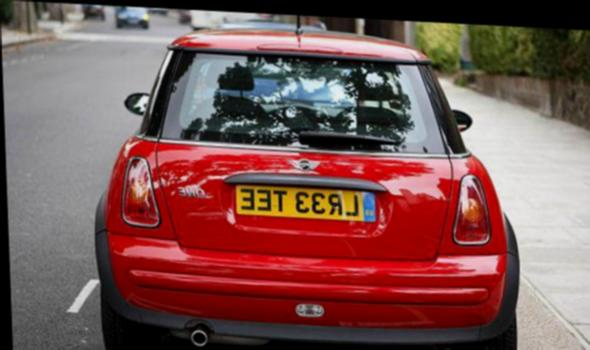License_Plate: (237, 184, 378, 218)
